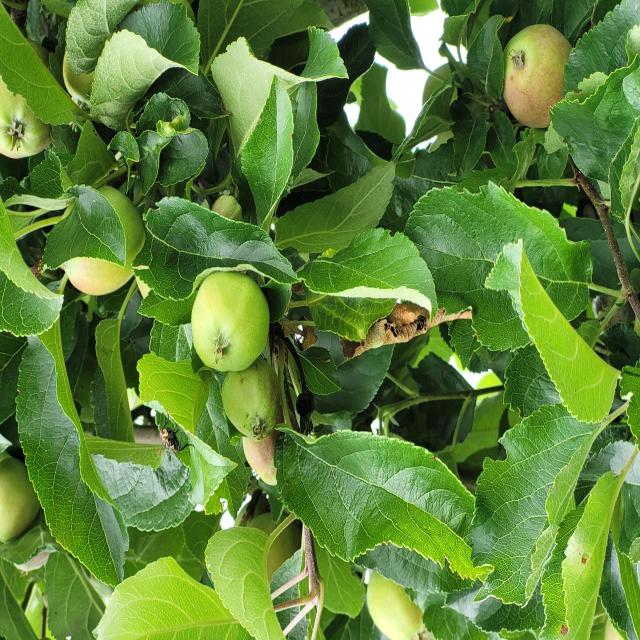-FireBlight-: (344, 299, 474, 334)
